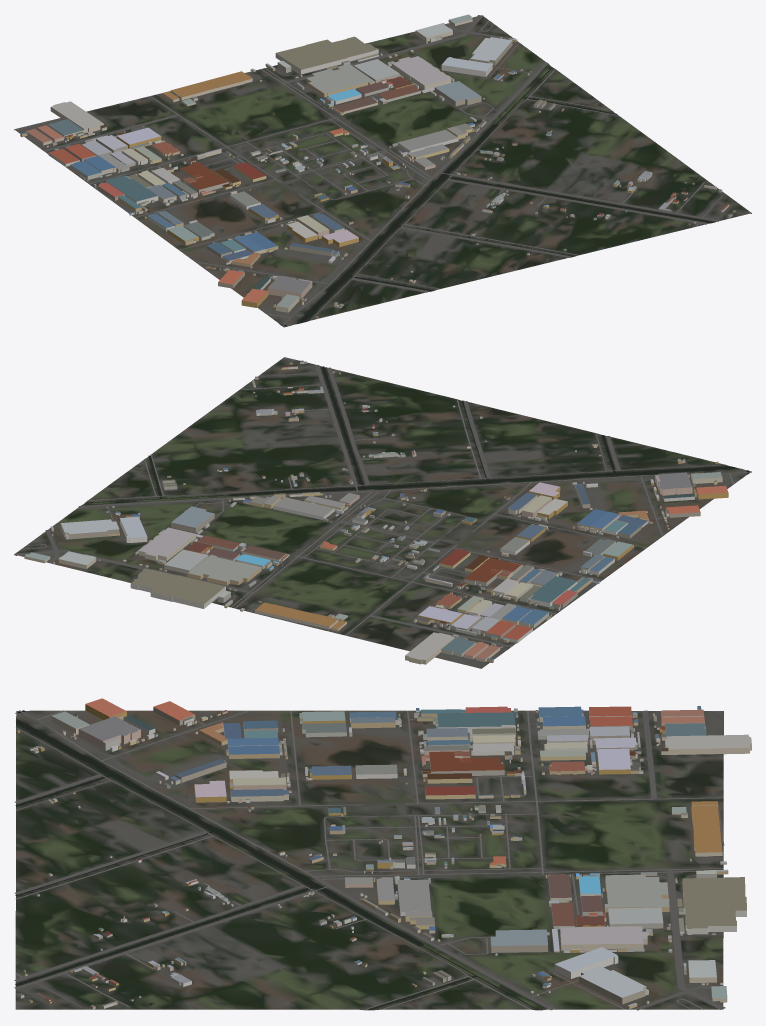
The picture shows the model from 3 angles, top to bottom: view 1: azimuth 30°, elevation 25°; view 2: azimuth 150°, elevation 25°; view 3: azimuth 270°, elevation 25°; orthographic projection. The views are drawn at different scales.
Parts seen in each view (by area): view 1: ground, buildings, roads, water; view 2: ground, buildings, roads, water; view 3: ground, buildings, roads, water.
Boxes of the visible parts, <box> form: ground: <box>14,15,751,327</box>; buildings: <box>20,14,735,318</box>; roads: <box>43,15,723,326</box>; water: <box>280,67,713,326</box>; ground: <box>14,357,751,668</box>; buildings: <box>24,360,728,664</box>; roads: <box>15,365,750,647</box>; water: <box>85,366,749,503</box>; ground: <box>15,710,723,1010</box>; buildings: <box>16,698,751,1009</box>; roads: <box>14,710,725,1010</box>; water: <box>15,710,538,1010</box>.
Bounding box in the file's own units: 1433 × 22.14 × 1460.
